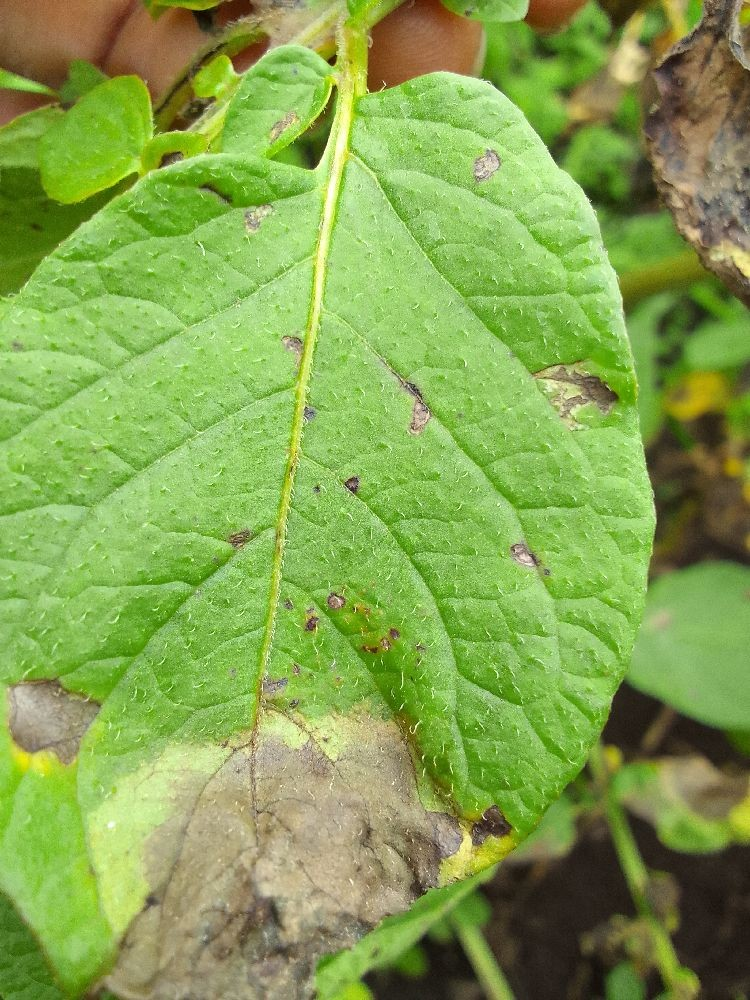late_blight: (67, 670, 749, 999), (483, 0, 750, 376), (0, 0, 342, 169), (620, 355, 750, 607)
